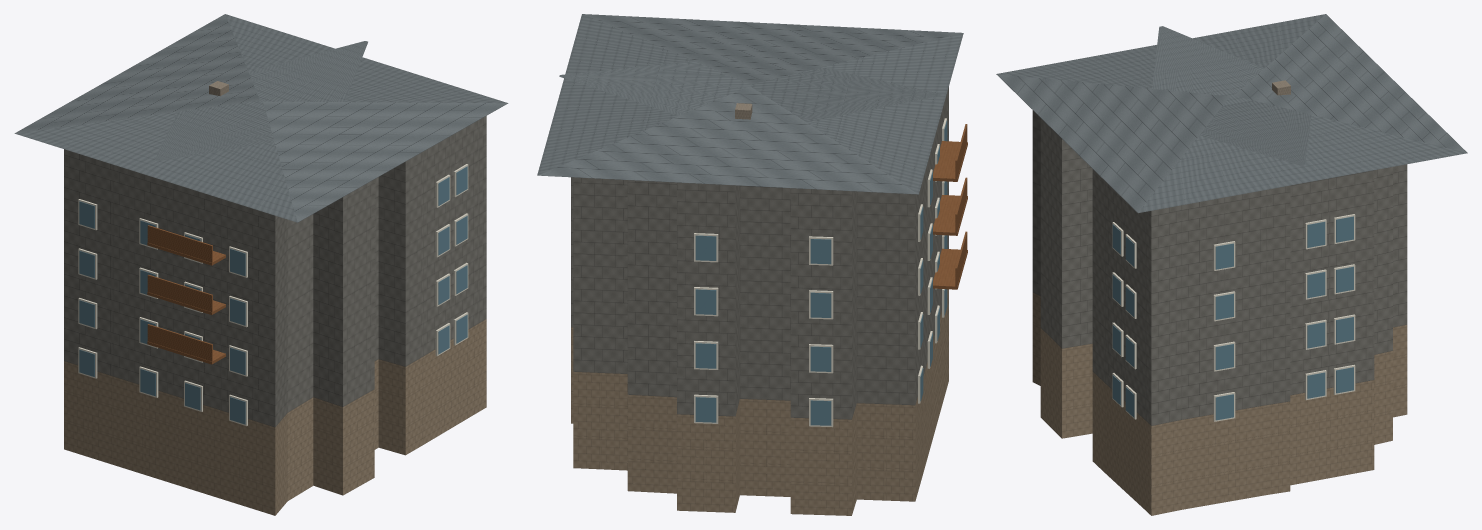
File: core_0082.gltf
The picture shows the model from 3 angles, left to right: view 1: azimuth 30°, elevation 25°; view 2: azimuth 150°, elevation 25°; view 3: azimuth 270°, elevation 25°; orthographic projection. The views are drawn at different scales.
Visible parts, largest first — view 1: core_0082; view 2: core_0082; view 3: core_0082.
Part boxes in pixels (x1,y1,x2,y2): core_0082: [14, 14, 508, 515]; core_0082: [537, 14, 967, 515]; core_0082: [996, 14, 1467, 515].
Size of the model in its own units: 24.23 by 18.75 by 24.25.
7 materials, 7 textured.
